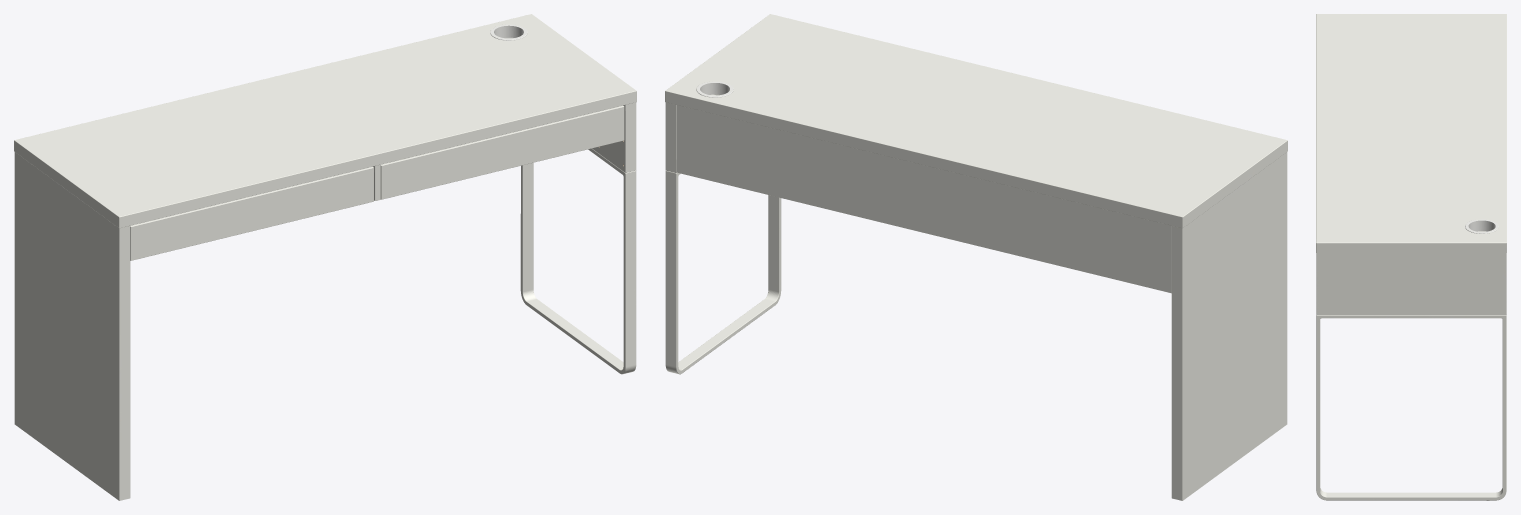
3 renders of one model, left to right at view 1: azimuth 30°, elevation 25°; view 2: azimuth 150°, elevation 25°; view 3: azimuth 270°, elevation 25°, orthographic. The views are drawn at different scales.
Parts seen in each view (by area): view 1: world; view 2: world; view 3: world.
Part boxes in pixels (x1,y1,x2,y2): world: (14, 14, 636, 500); world: (665, 14, 1287, 500); world: (1316, 14, 1506, 500).
Bounding box in the file's own units: 1.42 × 0.75 × 0.5.
Materials: 1 (1 with a texture image).
